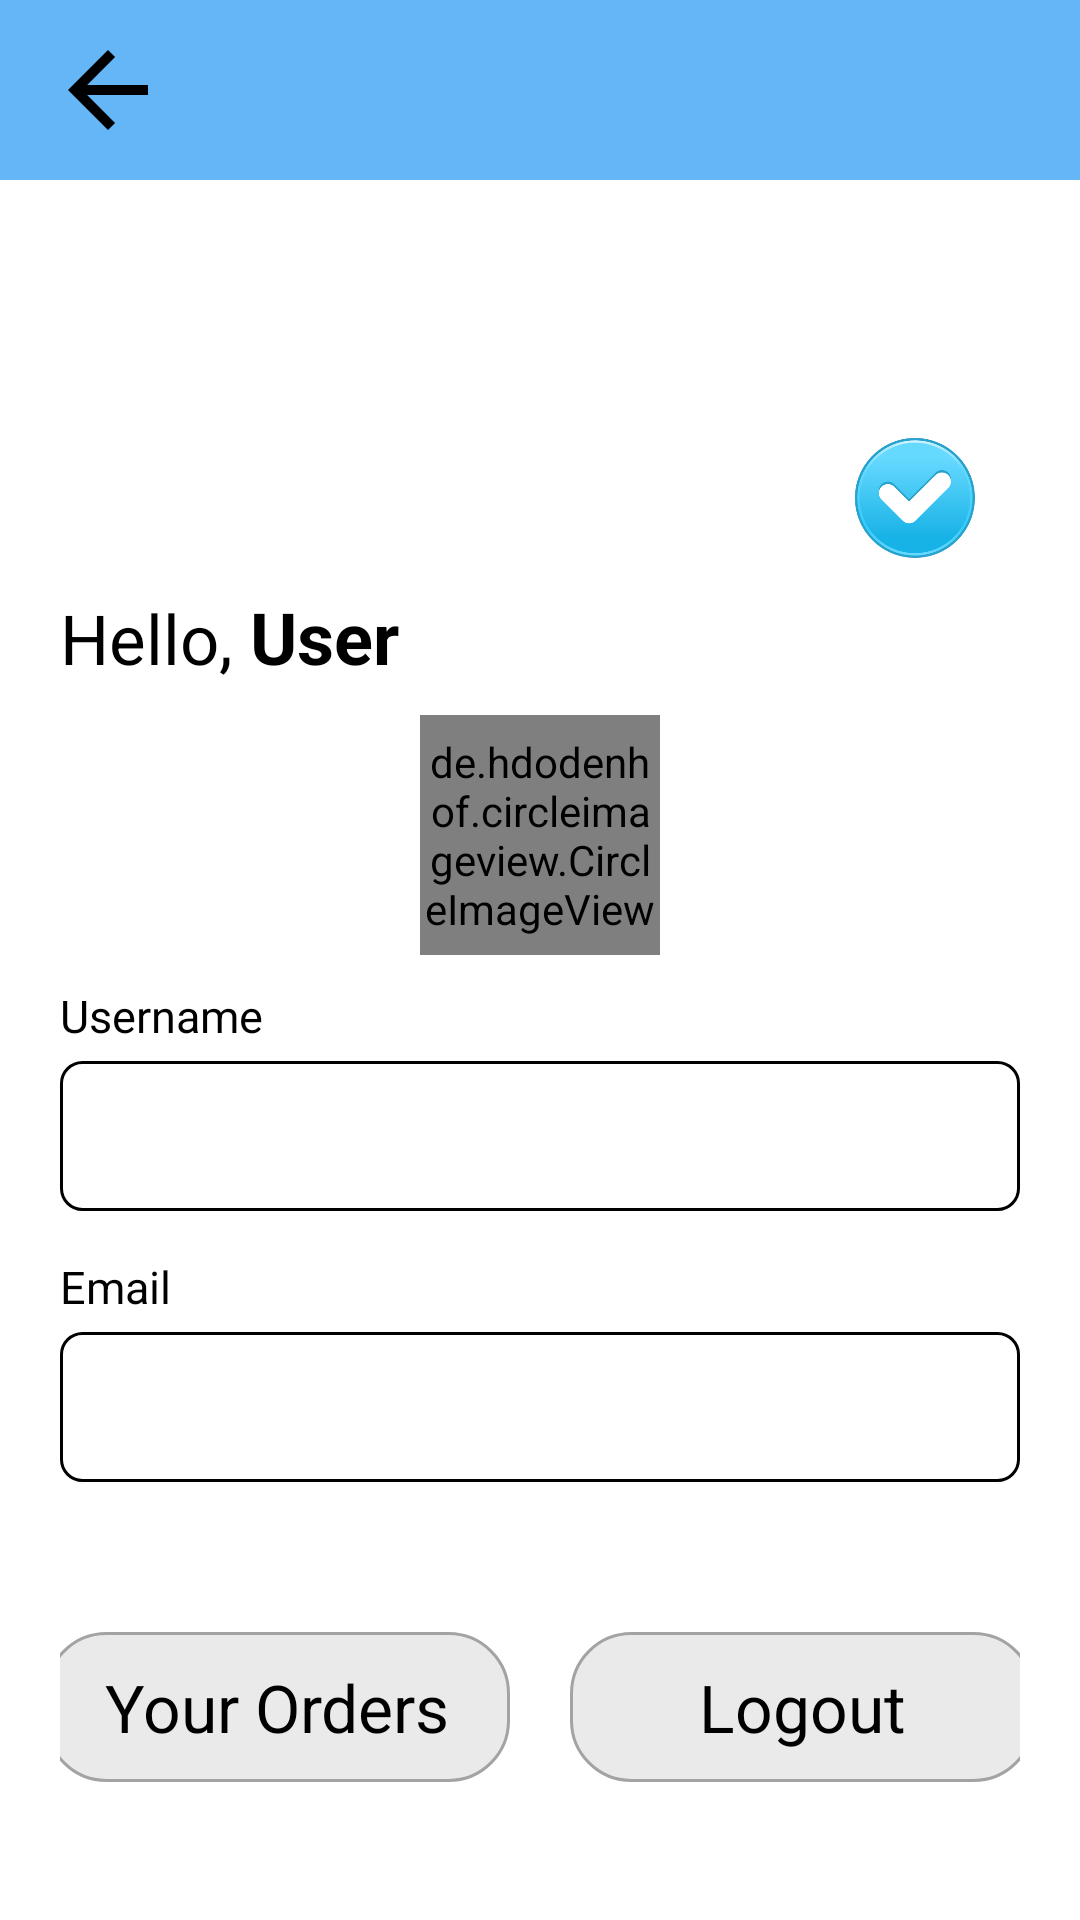

Screen size 1080*1920. Icon name, then its center in pixels as point (x, y):
back: point (108, 90)
doneicon: point (915, 498)
